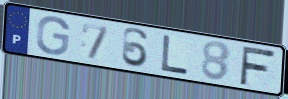6: (121, 27, 151, 71)
7: (80, 22, 110, 61)
8: (200, 40, 234, 84)
F: (238, 44, 278, 86)
G: (34, 15, 71, 56)
L: (160, 33, 191, 76)
